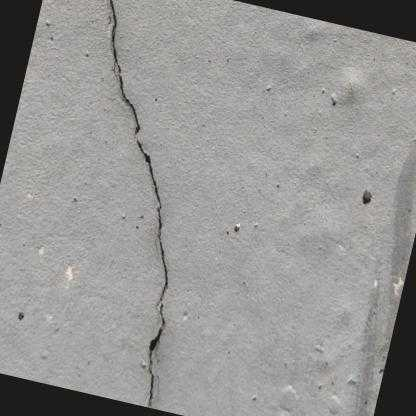crack: (108, 0, 169, 408)
